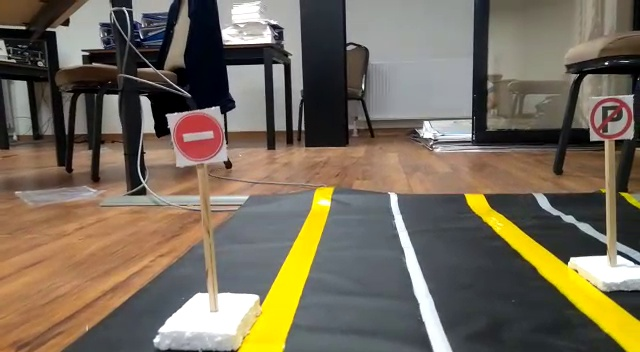girisi_olmayan_yol: (170, 108, 224, 166)
park_yapilmaz: (586, 95, 633, 140)
